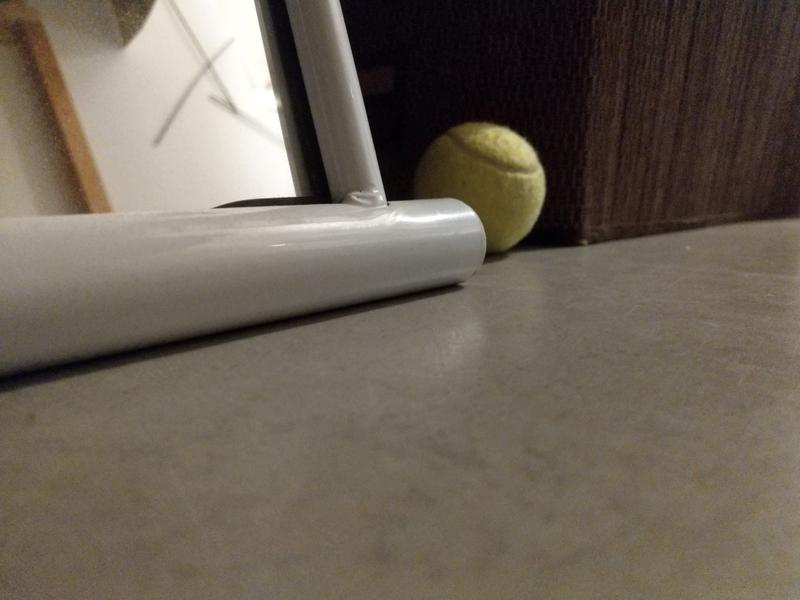Tennisball: (407, 120, 549, 259)
